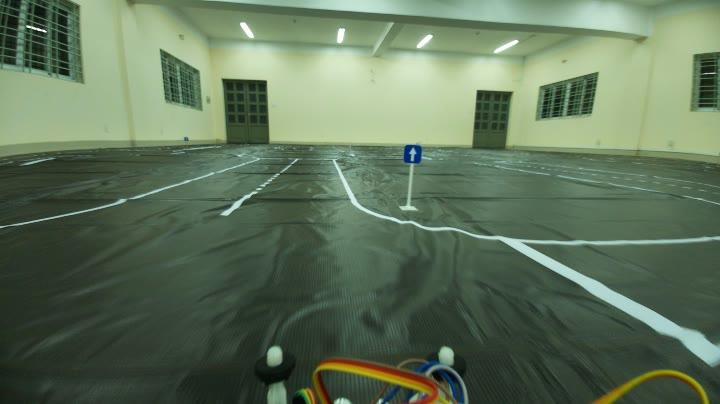onewayroad: (399, 140, 426, 166)
